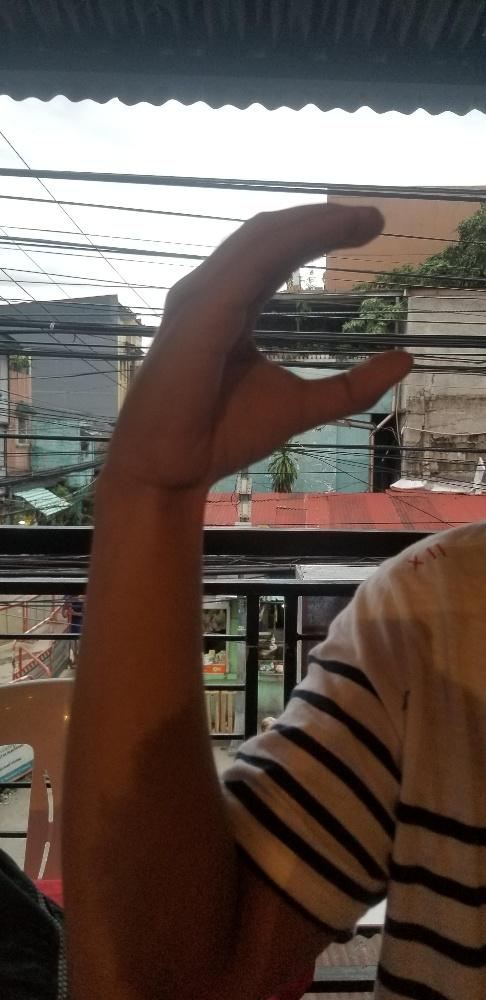c: (104, 201, 414, 484)
